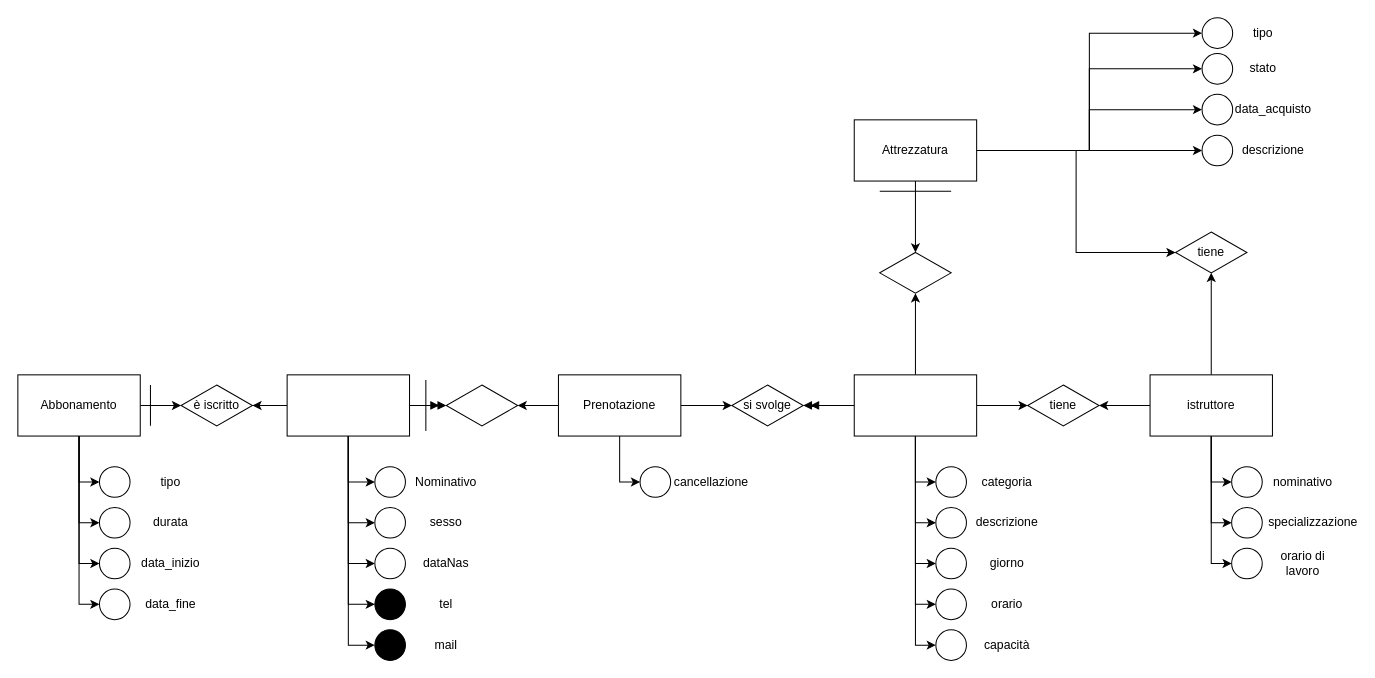
Image size: 1375x678. Some labels were removed from this diagram. The shapes that lost their labels are listed below. From the top down, each one's box as (x1, y1, x2, y2) in pixels, then its label:
(879, 251, 951, 293): ha
(286, 374, 410, 436): Membro
(445, 384, 518, 426): prenota
(853, 374, 977, 436): Attività
